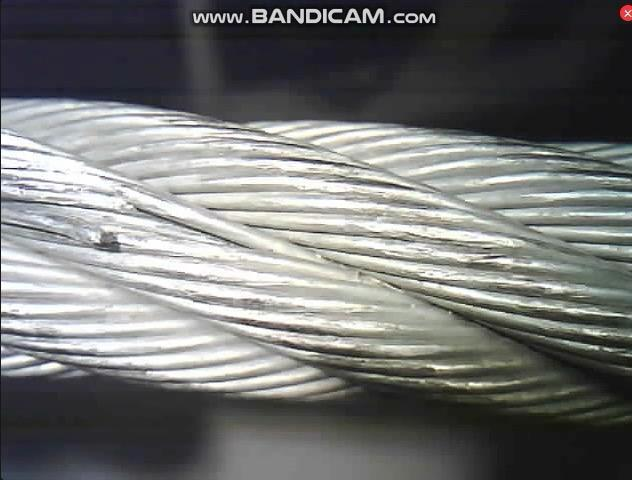break: (78, 203, 128, 263)
